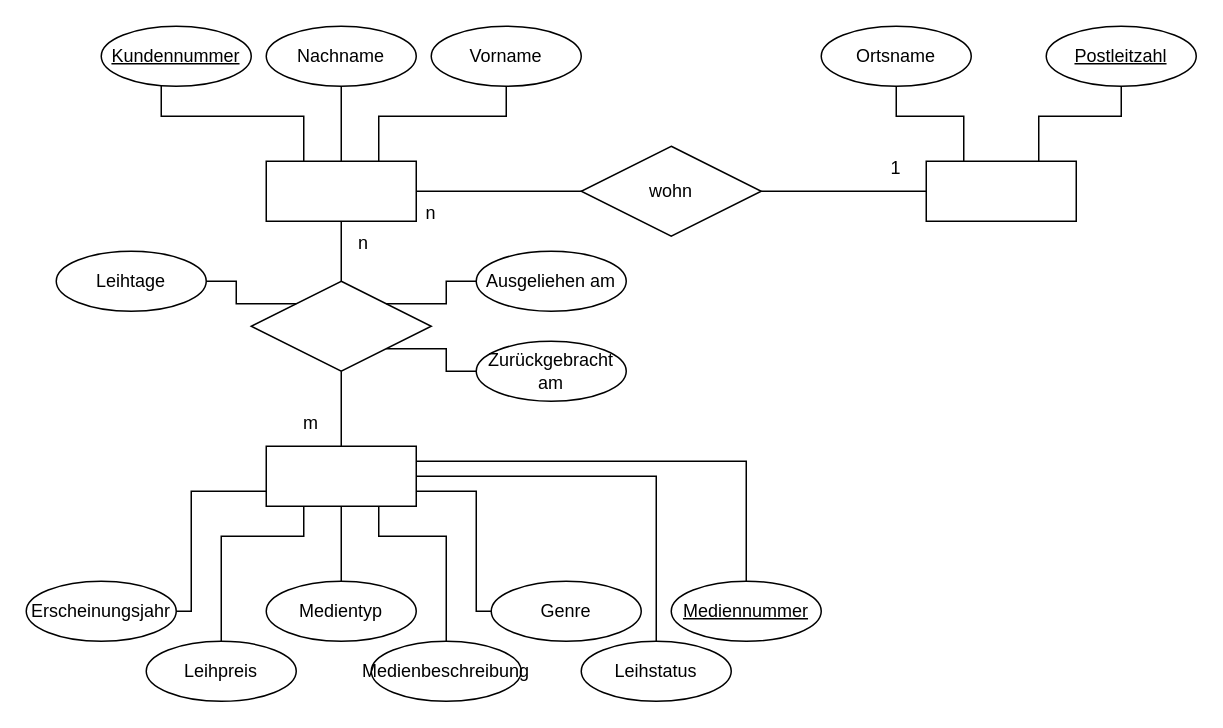
This 1223x728 diagram has some shape labels left out. The box of each missing label's shape, as (x1, y1, x2, y2) in pixels:
Kunde: (265, 160, 416, 221)
leiht: (250, 280, 431, 371)
Medien: (265, 445, 416, 506)
Ort: (925, 160, 1076, 221)
